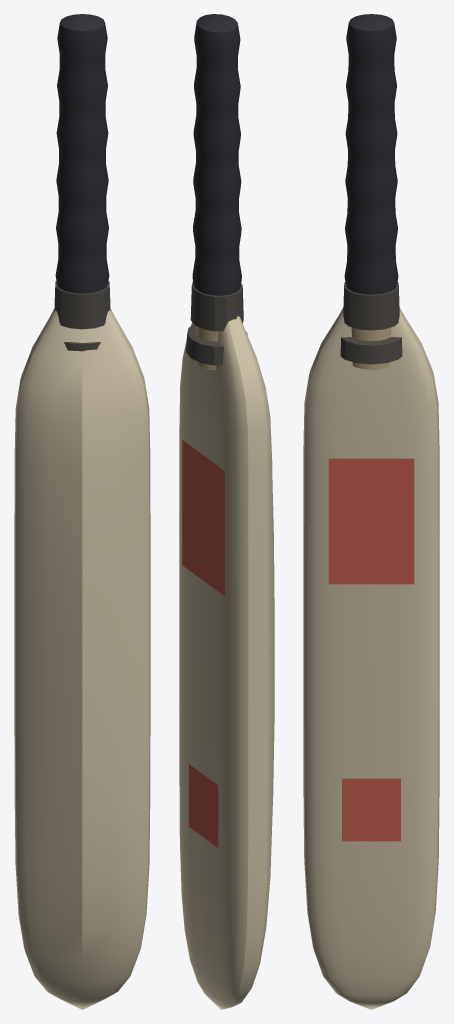
The model's file is SM_C26_Bat_Hero.fbx.
3 renders of one model, left to right at view 1: azimuth 90°, elevation 25°; view 2: azimuth 210°, elevation 25°; view 3: azimuth 270°, elevation 25°, orthographic.
Parts seen in each view (by area): view 1: SM_C26_Bat_Hero; view 2: SM_C26_Bat_Hero; view 3: SM_C26_Bat_Hero.
Boxes of the visible parts, x1,y1,x2,y2 form: SM_C26_Bat_Hero: (14, 14, 150, 1009); SM_C26_Bat_Hero: (179, 14, 274, 1009); SM_C26_Bat_Hero: (303, 14, 439, 1009).
Size of the model in its own units: 7.45 by 10.84 by 87.3.
